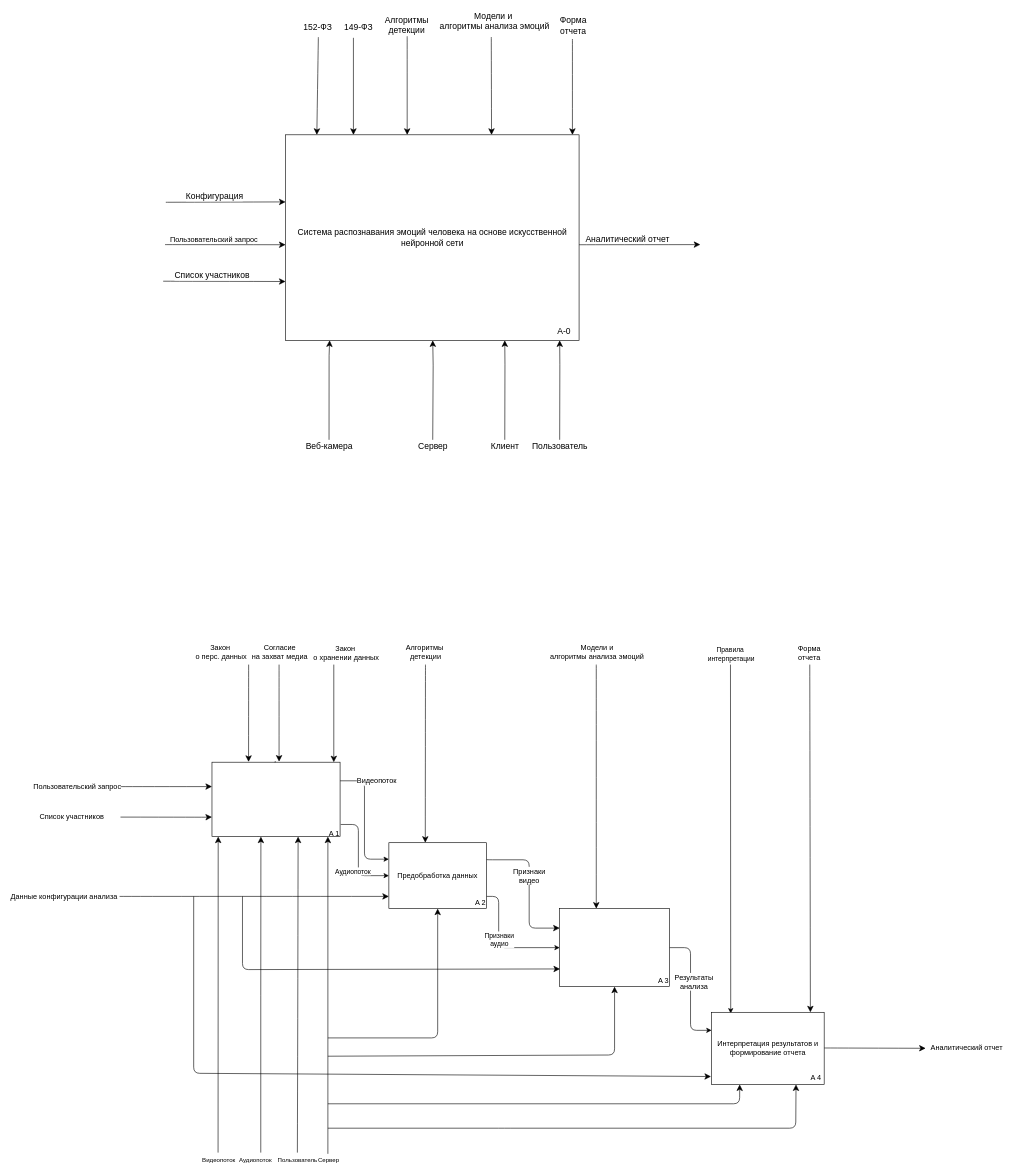
Some shapes in this 1013 by 1174 pixel diagram are drawn without their labels. Here are the shapes that lost their labels. From the top down, the box of each, then its label:
(211, 762, 340, 837): Проведение сессии
(559, 908, 669, 987): Анализ данных
